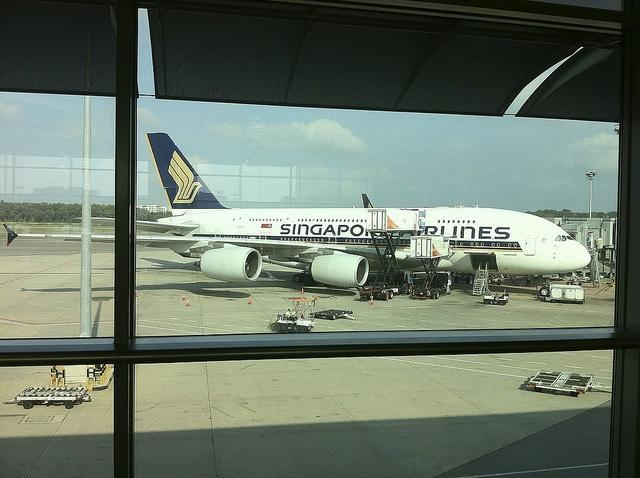truck: (410, 272, 449, 299), (539, 284, 586, 304), (484, 294, 509, 304)
